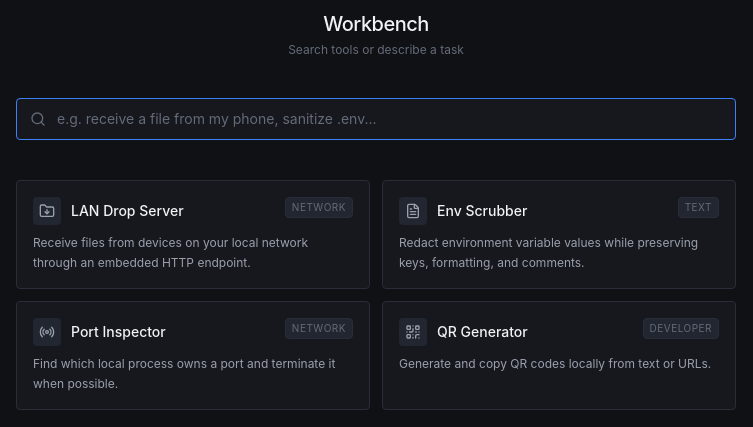
Test: LauncherPage › displays helpful no-results state when nothing matches
Type "completelyunrelatedtoolquery123" into the search field at (376, 119), box [16, 98, 736, 140]
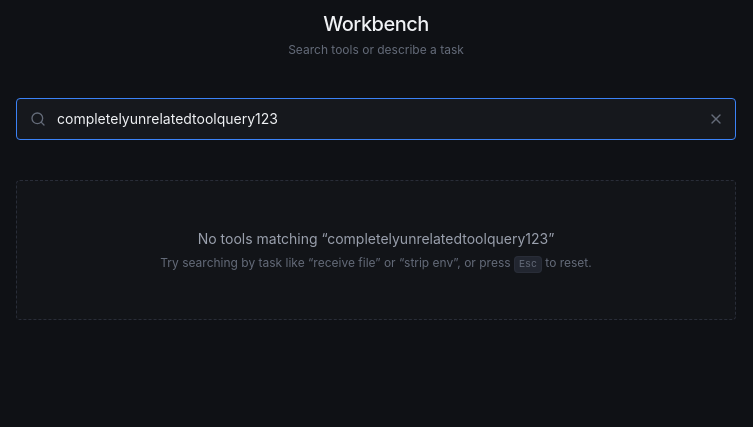
Now the link "LAN Drop Server" is gone
Now the link "Env Scrubber" is gone
Now the text "No tools matching “completelyunrelatedtoolquery123”" is shown, box [198, 230, 554, 247]
